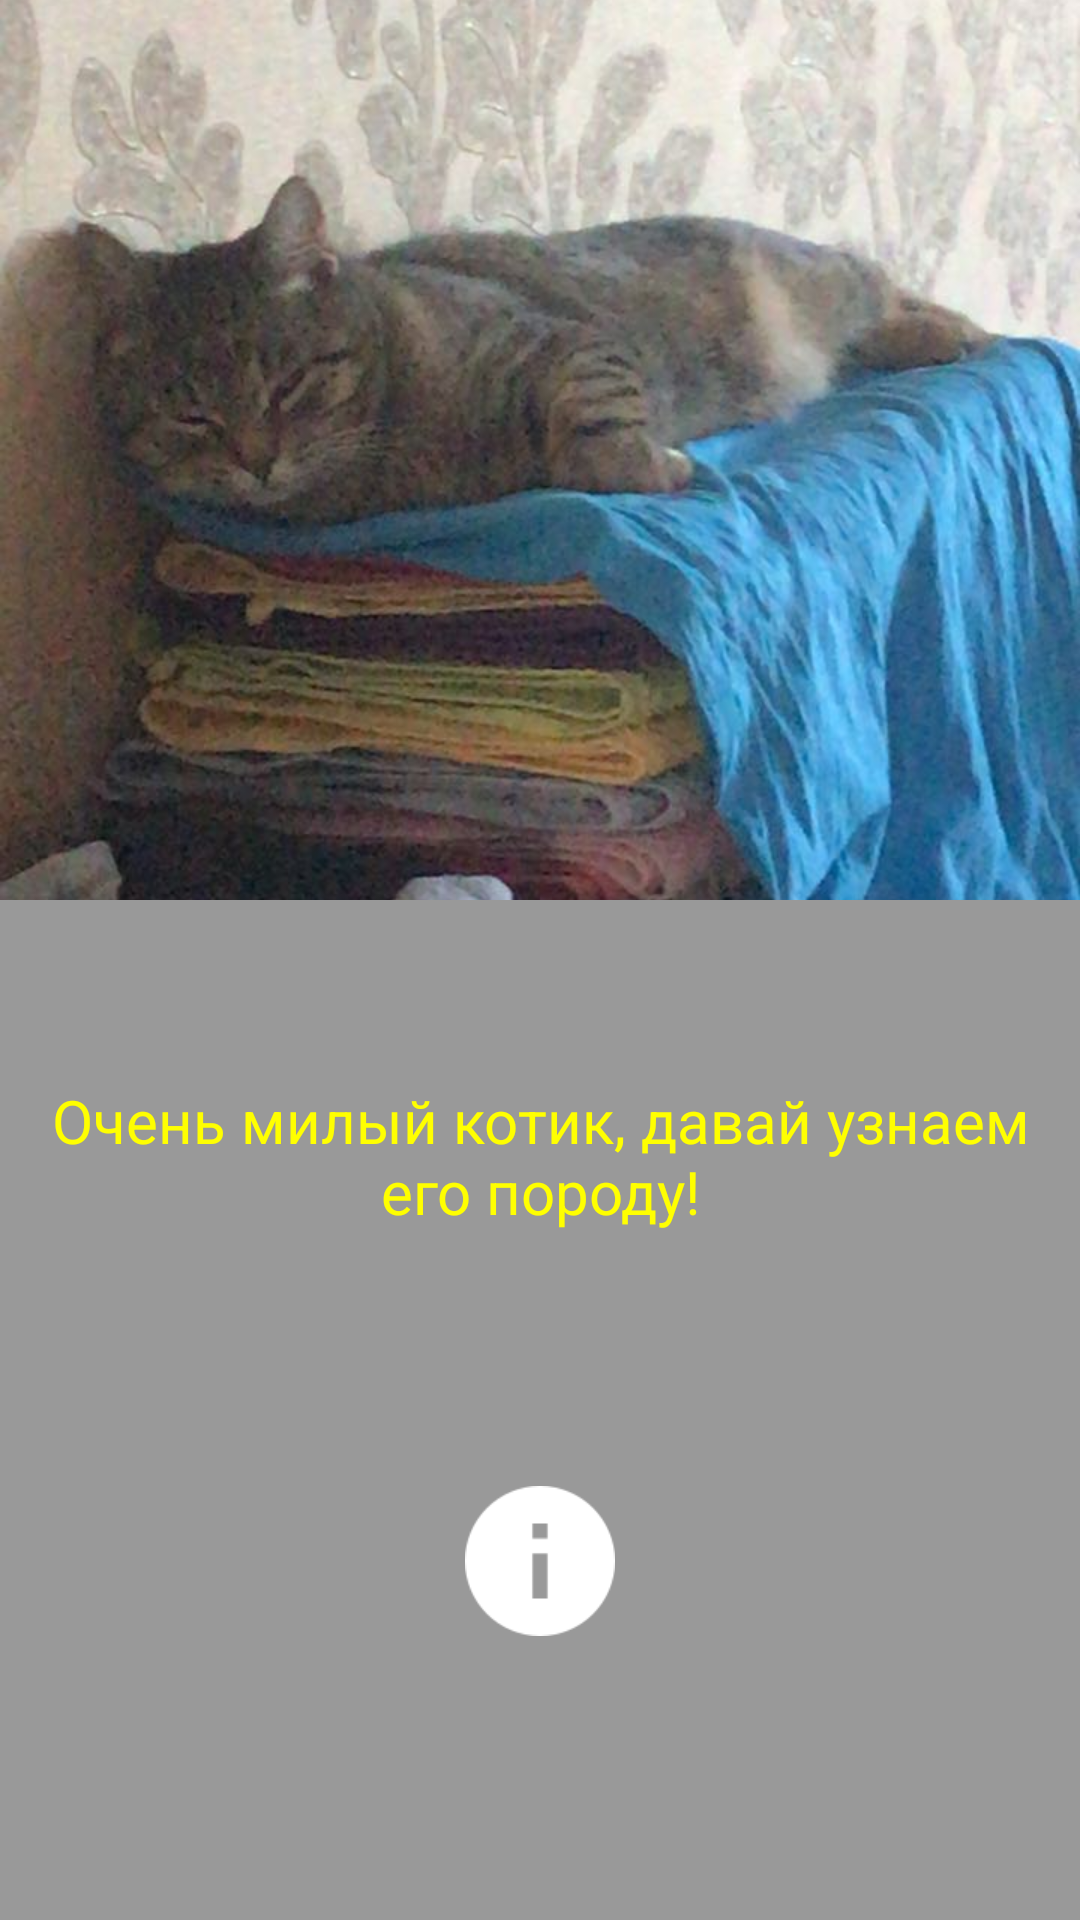

Icons on this 1080w x 1920h Android screen, each with its box as [left=x1, top=y1, right=x2, bottom=y2]:
info: [left=465, top=1486, right=615, bottom=1636]
